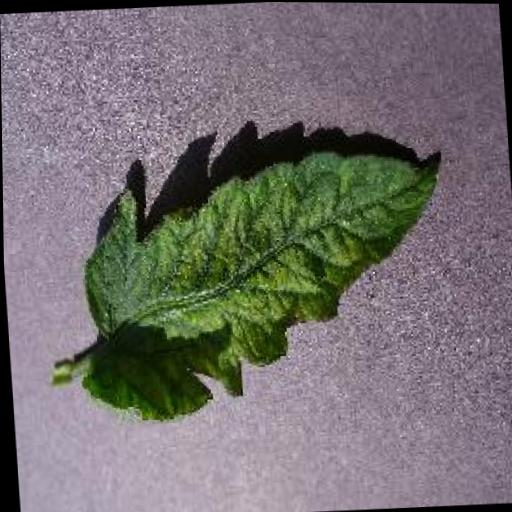Mosaic Virus: (67, 141, 457, 425)
